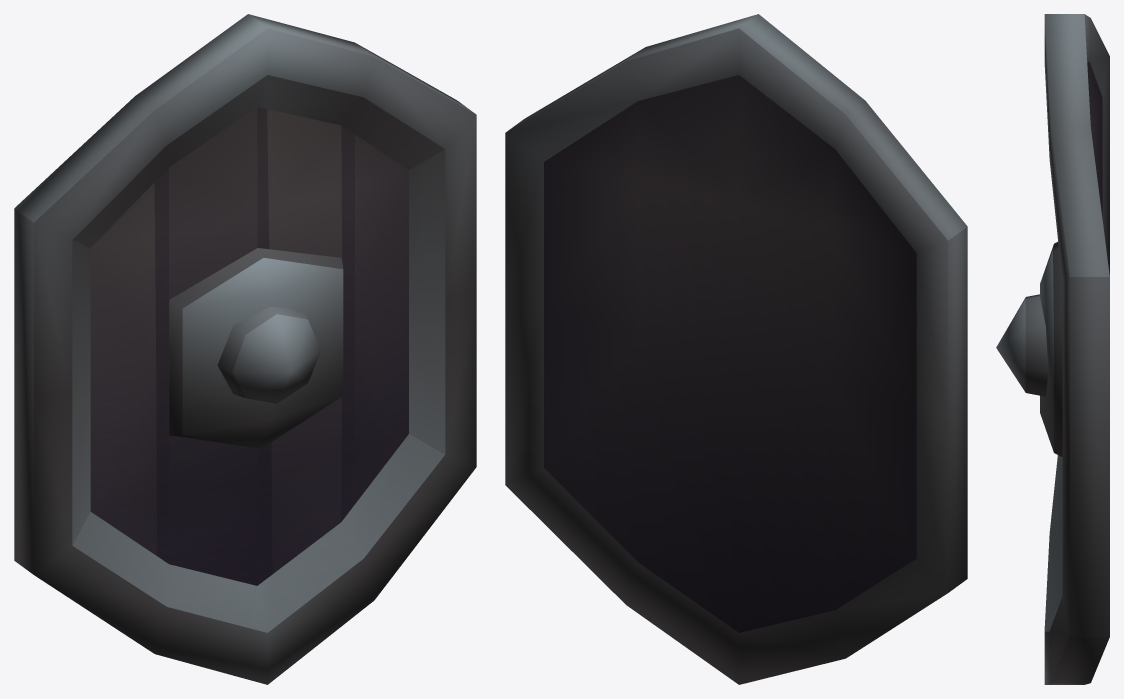
Rendered from ma017_Equip_Shield.FBX.
The picture shows the model from 3 angles, left to right: view 1: azimuth 30°, elevation 25°; view 2: azimuth 150°, elevation 25°; view 3: azimuth 270°, elevation 25°; orthographic projection. The views are drawn at different scales.
Visible parts, largest first — view 1: ma017_Equip_Shield; view 2: ma017_Equip_Shield; view 3: ma017_Equip_Shield.
Part boxes in pixels (x1=…): ma017_Equip_Shield: x1=14, y1=14, x2=476, y2=684; ma017_Equip_Shield: x1=505, y1=14, x2=967, y2=684; ma017_Equip_Shield: x1=996, y1=14, x2=1109, y2=684.
Bounding box in the file's own units: 53.76 × 76.18 × 11.71.
